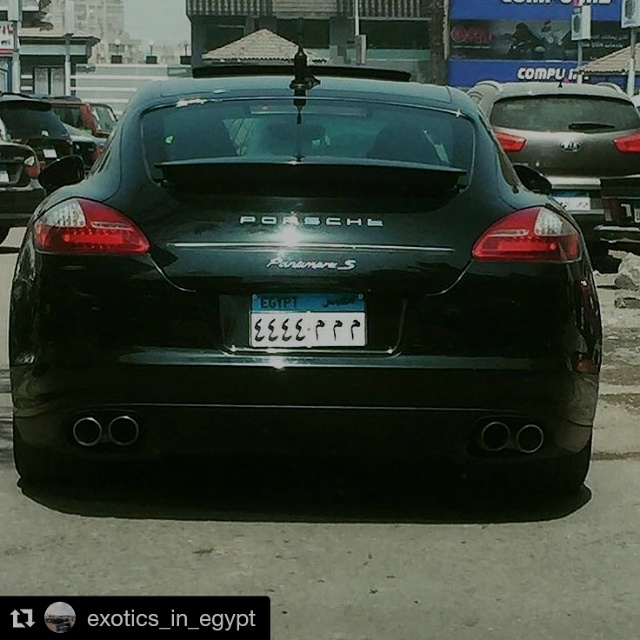License Plate: (243, 287, 373, 350)
